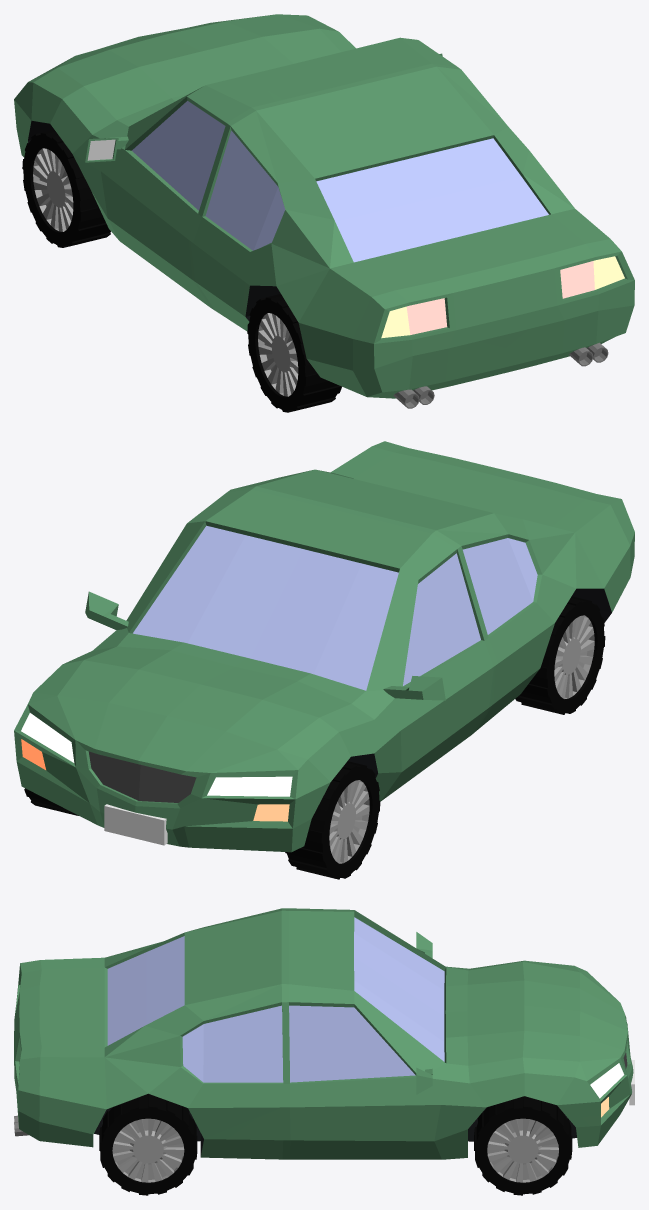
File: Mazda.fbx
3 views of the same model, one above another, from view 1: azimuth 30°, elevation 25°; view 2: azimuth 150°, elevation 25°; view 3: azimuth 270°, elevation 25° (orthographic). The views are drawn at different scales.
Visible parts, largest first — view 1: Car Body; view 2: Car Body; view 3: Car Body.
Boxes of the visible parts, x1,y1,x2,y2 form: Car Body: (14, 14, 634, 412); Car Body: (14, 441, 634, 879); Car Body: (14, 908, 634, 1195).
Bounding box in the file's own units: 2.41 × 4.31 × 1.43.
